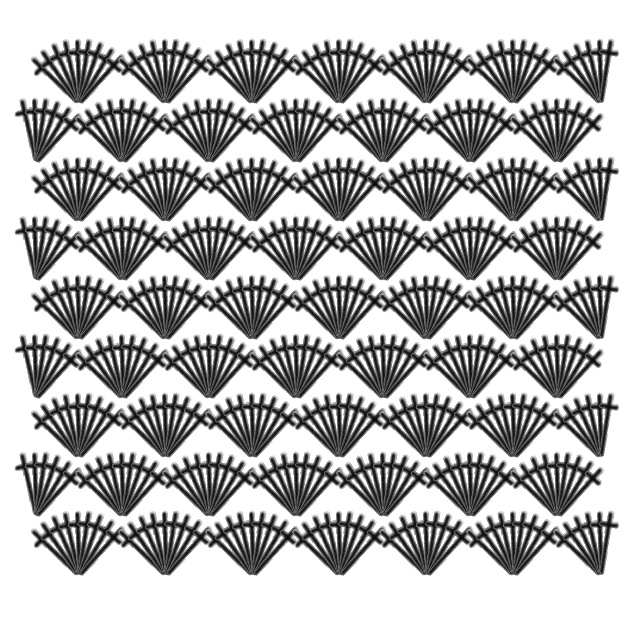enseble_chain: (19, 43, 93, 117), (65, 43, 139, 117), (106, 43, 180, 117), (152, 43, 226, 117), (193, 43, 267, 117), (239, 43, 313, 117), (280, 43, 354, 117), (326, 43, 400, 117), (367, 43, 441, 117), (413, 43, 487, 117), (454, 43, 528, 117), (500, 43, 574, 117), (541, 43, 615, 117), (22, 102, 96, 176), (63, 102, 137, 176), (109, 102, 183, 176), (150, 102, 224, 176), (196, 102, 270, 176), (237, 102, 311, 176), (283, 102, 357, 176), (324, 102, 398, 176), (370, 102, 444, 176), (411, 102, 485, 176), (457, 102, 531, 176), (498, 102, 572, 176), (544, 102, 618, 176), (19, 161, 93, 235), (65, 161, 139, 235), (106, 161, 180, 235), (152, 161, 226, 235), (193, 161, 267, 235), (239, 161, 313, 235), (280, 161, 354, 235), (326, 161, 400, 235), (367, 161, 441, 235), (413, 161, 487, 235), (454, 161, 528, 235), (500, 161, 574, 235), (541, 161, 615, 235), (22, 220, 96, 294), (63, 220, 137, 294), (109, 220, 183, 294), (150, 220, 224, 294), (196, 220, 270, 294), (237, 220, 311, 294), (283, 220, 357, 294), (324, 220, 398, 294), (370, 220, 444, 294), (411, 220, 485, 294), (457, 220, 531, 294), (498, 220, 572, 294), (544, 220, 618, 294), (19, 279, 93, 353), (65, 279, 139, 353), (106, 279, 180, 353), (152, 279, 226, 353), (193, 279, 267, 353), (239, 279, 313, 353), (280, 279, 354, 353), (326, 279, 400, 353), (367, 279, 441, 353), (413, 279, 487, 353), (454, 279, 528, 353), (500, 279, 574, 353), (541, 279, 615, 353), (22, 338, 96, 412), (63, 338, 137, 412), (109, 338, 183, 412), (150, 338, 224, 412), (196, 338, 270, 412), (237, 338, 311, 412), (283, 338, 357, 412), (324, 338, 398, 412), (370, 338, 444, 412), (411, 338, 485, 412), (457, 338, 531, 412), (498, 338, 572, 412), (544, 338, 618, 412), (19, 397, 93, 471), (65, 397, 139, 471), (106, 397, 180, 471), (152, 397, 226, 471), (193, 397, 267, 471), (239, 397, 313, 471), (280, 397, 354, 471), (326, 397, 400, 471), (367, 397, 441, 471), (413, 397, 487, 471), (454, 397, 528, 471), (500, 397, 574, 471), (541, 397, 615, 471), (22, 456, 96, 530), (63, 456, 137, 530), (109, 456, 183, 530), (150, 456, 224, 530), (196, 456, 270, 530), (237, 456, 311, 530), (283, 456, 357, 530), (324, 456, 398, 530), (370, 456, 444, 530), (411, 456, 485, 530), (457, 456, 531, 530), (498, 456, 572, 530), (544, 456, 618, 530), (19, 515, 93, 589), (65, 515, 139, 589), (106, 515, 180, 589), (152, 515, 226, 589), (193, 515, 267, 589), (239, 515, 313, 589), (280, 515, 354, 589), (326, 515, 400, 589), (367, 515, 441, 589), (413, 515, 487, 589), (454, 515, 528, 589), (500, 515, 574, 589), (541, 515, 615, 589), (27, 38, 95, 114), (63, 38, 131, 114), (114, 38, 182, 114), (150, 38, 218, 114), (201, 38, 269, 114), (237, 38, 305, 114), (288, 38, 356, 114), (324, 38, 392, 114), (375, 38, 443, 114), (411, 38, 479, 114), (462, 38, 530, 114), (498, 38, 566, 114), (549, 38, 617, 114), (20, 97, 88, 173), (71, 97, 139, 173), (107, 97, 175, 173), (158, 97, 226, 173), (194, 97, 262, 173), (245, 97, 313, 173), (281, 97, 349, 173), (332, 97, 400, 173), (368, 97, 436, 173), (419, 97, 487, 173), (455, 97, 523, 173), (506, 97, 574, 173), (542, 97, 610, 173), (27, 156, 95, 232), (63, 156, 131, 232), (114, 156, 182, 232), (150, 156, 218, 232), (201, 156, 269, 232), (237, 156, 305, 232), (288, 156, 356, 232), (324, 156, 392, 232), (375, 156, 443, 232), (411, 156, 479, 232), (462, 156, 530, 232), (498, 156, 566, 232), (549, 156, 617, 232), (20, 215, 88, 291), (71, 215, 139, 291), (107, 215, 175, 291), (158, 215, 226, 291), (194, 215, 262, 291), (245, 215, 313, 291), (281, 215, 349, 291), (332, 215, 400, 291), (368, 215, 436, 291), (419, 215, 487, 291), (455, 215, 523, 291), (506, 215, 574, 291), (542, 215, 610, 291), (27, 274, 95, 350), (63, 274, 131, 350), (114, 274, 182, 350), (150, 274, 218, 350), (201, 274, 269, 350), (237, 274, 305, 350), (288, 274, 356, 350), (324, 274, 392, 350), (375, 274, 443, 350), (411, 274, 479, 350), (462, 274, 530, 350), (498, 274, 566, 350), (549, 274, 617, 350), (20, 333, 88, 409), (71, 333, 139, 409), (107, 333, 175, 409), (158, 333, 226, 409), (194, 333, 262, 409), (245, 333, 313, 409), (281, 333, 349, 409), (332, 333, 400, 409), (368, 333, 436, 409), (419, 333, 487, 409), (455, 333, 523, 409), (506, 333, 574, 409), (542, 333, 610, 409), (27, 392, 95, 468), (63, 392, 131, 468), (114, 392, 182, 468), (150, 392, 218, 468), (201, 392, 269, 468), (237, 392, 305, 468), (288, 392, 356, 468), (324, 392, 392, 468), (375, 392, 443, 468), (411, 392, 479, 468), (462, 392, 530, 468), (498, 392, 566, 468), (549, 392, 617, 468), (20, 451, 88, 527), (71, 451, 139, 527), (107, 451, 175, 527), (158, 451, 226, 527), (194, 451, 262, 527), (245, 451, 313, 527), (281, 451, 349, 527), (332, 451, 400, 527), (368, 451, 436, 527), (419, 451, 487, 527), (455, 451, 523, 527), (506, 451, 574, 527), (542, 451, 610, 527), (27, 510, 95, 586), (63, 510, 131, 586), (114, 510, 182, 586), (150, 510, 218, 586), (201, 510, 269, 586), (237, 510, 305, 586), (288, 510, 356, 586), (324, 510, 392, 586), (375, 510, 443, 586), (411, 510, 479, 586), (462, 510, 530, 586), (498, 510, 566, 586), (549, 510, 617, 586), (37, 36, 97, 111), (61, 36, 121, 111), (124, 36, 184, 111), (148, 36, 208, 111), (211, 36, 271, 111), (235, 36, 295, 111), (298, 36, 358, 111), (322, 36, 382, 111), (385, 36, 445, 111), (409, 36, 469, 111), (472, 36, 532, 111), (496, 36, 556, 111), (559, 36, 619, 111), (18, 95, 78, 170), (81, 95, 141, 170), (105, 95, 165, 170), (168, 95, 228, 170), (192, 95, 252, 170), (255, 95, 315, 170), (279, 95, 339, 170), (342, 95, 402, 170), (366, 95, 426, 170), (429, 95, 489, 170), (453, 95, 513, 170), (516, 95, 576, 170), (540, 95, 600, 170), (37, 154, 97, 229), (61, 154, 121, 229), (124, 154, 184, 229), (148, 154, 208, 229), (211, 154, 271, 229), (235, 154, 295, 229), (298, 154, 358, 229), (322, 154, 382, 229), (385, 154, 445, 229), (409, 154, 469, 229), (472, 154, 532, 229), (496, 154, 556, 229), (559, 154, 619, 229), (18, 213, 78, 288), (81, 213, 141, 288), (105, 213, 165, 288), (168, 213, 228, 288), (192, 213, 252, 288), (255, 213, 315, 288), (279, 213, 339, 288), (342, 213, 402, 288), (366, 213, 426, 288), (429, 213, 489, 288), (453, 213, 513, 288), (516, 213, 576, 288), (540, 213, 600, 288), (37, 272, 97, 347), (61, 272, 121, 347), (124, 272, 184, 347), (148, 272, 208, 347), (211, 272, 271, 347), (235, 272, 295, 347), (298, 272, 358, 347), (322, 272, 382, 347), (385, 272, 445, 347), (409, 272, 469, 347), (472, 272, 532, 347), (496, 272, 556, 347), (559, 272, 619, 347), (18, 331, 78, 406), (81, 331, 141, 406), (105, 331, 165, 406), (168, 331, 228, 406), (192, 331, 252, 406), (255, 331, 315, 406), (279, 331, 339, 406), (342, 331, 402, 406), (366, 331, 426, 406), (429, 331, 489, 406), (453, 331, 513, 406), (516, 331, 576, 406), (540, 331, 600, 406), (37, 390, 97, 465), (61, 390, 121, 465), (124, 390, 184, 465), (148, 390, 208, 465), (211, 390, 271, 465), (235, 390, 295, 465), (298, 390, 358, 465), (322, 390, 382, 465), (385, 390, 445, 465), (409, 390, 469, 465), (472, 390, 532, 465), (496, 390, 556, 465), (559, 390, 619, 465), (18, 449, 78, 524), (81, 449, 141, 524), (105, 449, 165, 524), (168, 449, 228, 524), (192, 449, 252, 524), (255, 449, 315, 524), (279, 449, 339, 524), (342, 449, 402, 524), (366, 449, 426, 524), (429, 449, 489, 524), (453, 449, 513, 524), (516, 449, 576, 524), (540, 449, 600, 524), (37, 508, 97, 583), (61, 508, 121, 583), (124, 508, 184, 583), (148, 508, 208, 583), (211, 508, 271, 583), (235, 508, 295, 583), (298, 508, 358, 583), (322, 508, 382, 583), (385, 508, 445, 583), (409, 508, 469, 583), (472, 508, 532, 583), (496, 508, 556, 583), (559, 508, 619, 583), (48, 36, 98, 108), (60, 36, 110, 108), (135, 36, 185, 108), (147, 36, 197, 108), (222, 36, 272, 108), (234, 36, 284, 108), (309, 36, 359, 108), (321, 36, 371, 108), (396, 36, 446, 108), (408, 36, 458, 108), (483, 36, 533, 108), (495, 36, 545, 108), (570, 36, 620, 108), (582, 36, 632, 108), (5, 95, 55, 167), (17, 95, 67, 167), (92, 95, 142, 167), (104, 95, 154, 167), (179, 95, 229, 167), (191, 95, 241, 167), (266, 95, 316, 167), (278, 95, 328, 167), (353, 95, 403, 167), (365, 95, 415, 167), (440, 95, 490, 167), (452, 95, 502, 167), (527, 95, 577, 167), (539, 95, 589, 167), (48, 154, 98, 226), (60, 154, 110, 226), (135, 154, 185, 226), (147, 154, 197, 226), (222, 154, 272, 226), (234, 154, 284, 226), (309, 154, 359, 226), (321, 154, 371, 226), (396, 154, 446, 226), (408, 154, 458, 226), (483, 154, 533, 226), (495, 154, 545, 226), (570, 154, 620, 226), (582, 154, 632, 226), (5, 213, 55, 285), (17, 213, 67, 285), (92, 213, 142, 285), (104, 213, 154, 285), (179, 213, 229, 285), (191, 213, 241, 285), (266, 213, 316, 285), (278, 213, 328, 285), (353, 213, 403, 285), (365, 213, 415, 285), (440, 213, 490, 285), (452, 213, 502, 285), (527, 213, 577, 285), (539, 213, 589, 285), (48, 272, 98, 344), (60, 272, 110, 344), (135, 272, 185, 344), (147, 272, 197, 344), (222, 272, 272, 344), (234, 272, 284, 344), (309, 272, 359, 344), (321, 272, 371, 344), (396, 272, 446, 344), (408, 272, 458, 344), (483, 272, 533, 344), (495, 272, 545, 344), (570, 272, 620, 344), (582, 272, 632, 344), (5, 331, 55, 403), (17, 331, 67, 403), (92, 331, 142, 403), (104, 331, 154, 403), (179, 331, 229, 403), (191, 331, 241, 403), (266, 331, 316, 403), (278, 331, 328, 403), (353, 331, 403, 403), (365, 331, 415, 403), (440, 331, 490, 403), (452, 331, 502, 403), (527, 331, 577, 403), (539, 331, 589, 403), (48, 390, 98, 462), (60, 390, 110, 462), (135, 390, 185, 462), (147, 390, 197, 462), (222, 390, 272, 462), (234, 390, 284, 462), (309, 390, 359, 462), (321, 390, 371, 462), (396, 390, 446, 462), (408, 390, 458, 462), (483, 390, 533, 462), (495, 390, 545, 462), (570, 390, 620, 462), (582, 390, 632, 462), (5, 449, 55, 521), (17, 449, 67, 521), (92, 449, 142, 521), (104, 449, 154, 521), (179, 449, 229, 521), (191, 449, 241, 521), (266, 449, 316, 521), (278, 449, 328, 521), (353, 449, 403, 521), (365, 449, 415, 521), (440, 449, 490, 521), (452, 449, 502, 521), (527, 449, 577, 521), (539, 449, 589, 521), (48, 508, 98, 580), (60, 508, 110, 580), (135, 508, 185, 580), (147, 508, 197, 580), (222, 508, 272, 580), (234, 508, 284, 580), (309, 508, 359, 580), (321, 508, 371, 580), (396, 508, 446, 580), (408, 508, 458, 580), (483, 508, 533, 580), (495, 508, 545, 580), (570, 508, 620, 580), (582, 508, 632, 580), (60, 38, 98, 104), (147, 38, 185, 104), (234, 38, 272, 104), (321, 38, 359, 104), (408, 38, 446, 104), (495, 38, 533, 104), (582, 38, 620, 104), (17, 97, 55, 163), (104, 97, 142, 163), (191, 97, 229, 163), (278, 97, 316, 163), (365, 97, 403, 163), (452, 97, 490, 163), (539, 97, 577, 163), (60, 156, 98, 222), (147, 156, 185, 222), (234, 156, 272, 222), (321, 156, 359, 222), (408, 156, 446, 222), (495, 156, 533, 222), (582, 156, 620, 222), (17, 215, 55, 281), (104, 215, 142, 281), (191, 215, 229, 281), (278, 215, 316, 281), (365, 215, 403, 281), (452, 215, 490, 281), (539, 215, 577, 281), (60, 274, 98, 340), (147, 274, 185, 340), (234, 274, 272, 340), (321, 274, 359, 340), (408, 274, 446, 340), (495, 274, 533, 340), (582, 274, 620, 340), (17, 333, 55, 399), (104, 333, 142, 399), (191, 333, 229, 399), (278, 333, 316, 399), (365, 333, 403, 399), (452, 333, 490, 399), (539, 333, 577, 399), (60, 392, 98, 458), (147, 392, 185, 458), (234, 392, 272, 458), (321, 392, 359, 458), (408, 392, 446, 458), (495, 392, 533, 458), (582, 392, 620, 458), (17, 451, 55, 517), (104, 451, 142, 517), (191, 451, 229, 517), (278, 451, 316, 517), (365, 451, 403, 517), (452, 451, 490, 517), (539, 451, 577, 517), (60, 510, 98, 576), (147, 510, 185, 576), (234, 510, 272, 576), (321, 510, 359, 576), (408, 510, 446, 576), (495, 510, 533, 576), (582, 510, 620, 576)
